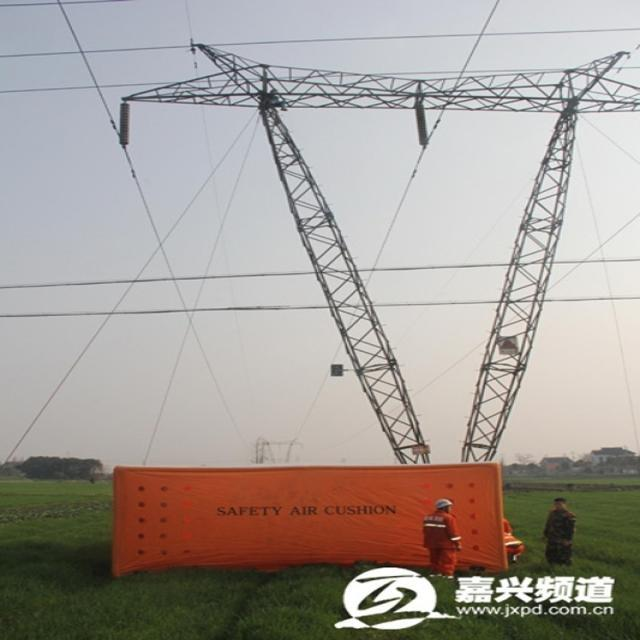non-critical vegetation: (142, 19, 596, 470)
